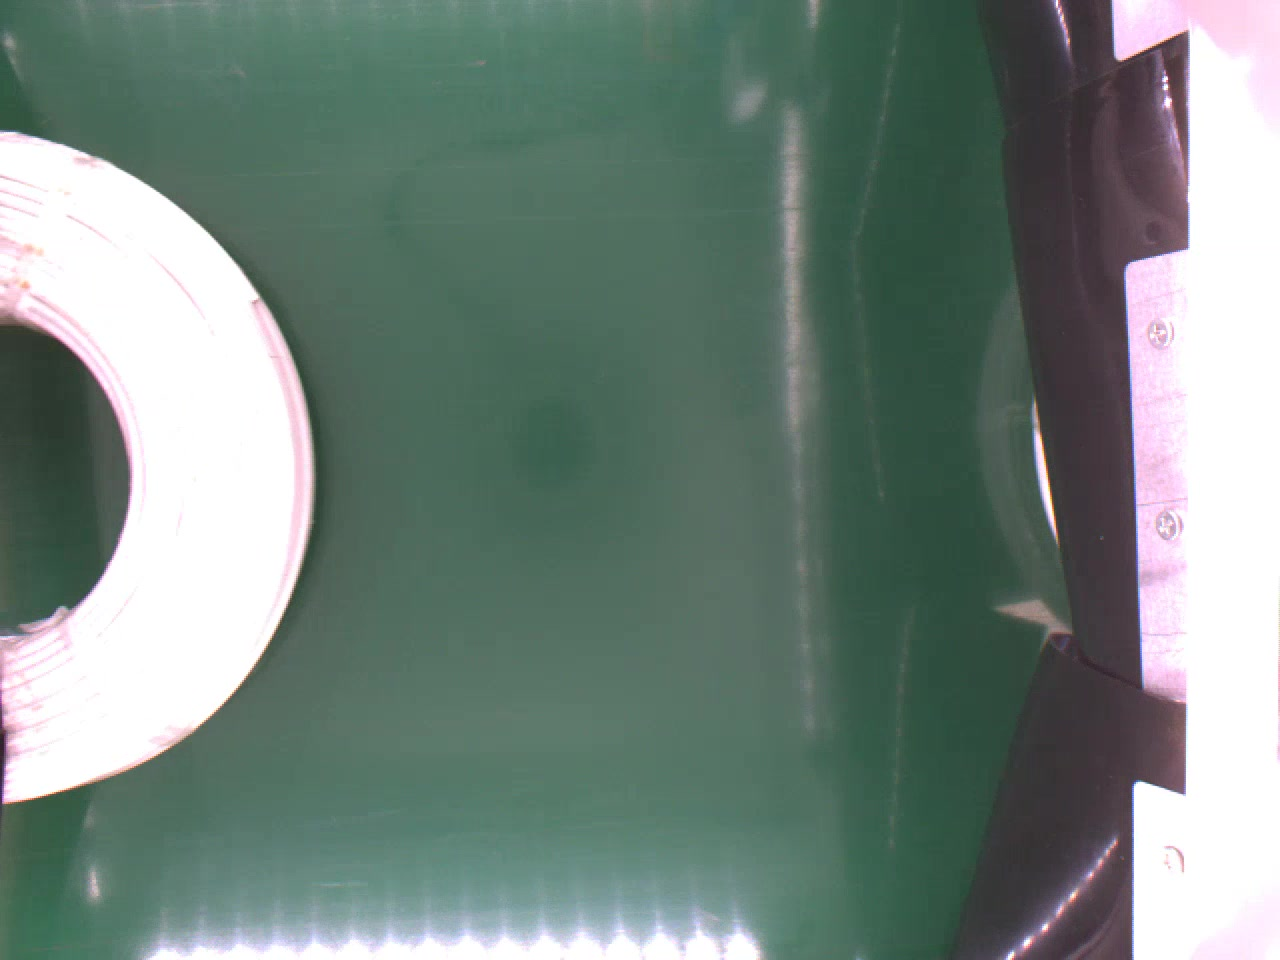white: (0, 127, 321, 802)
